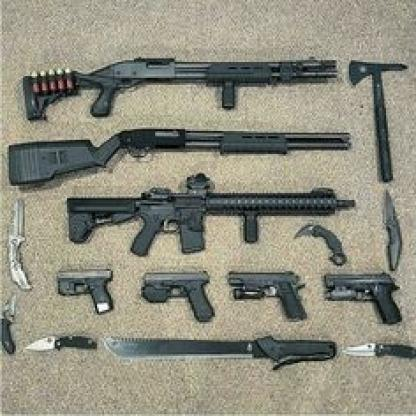Gun: (66, 171, 358, 259), (6, 124, 353, 186), (22, 56, 337, 122)
Knife: (6, 198, 35, 292), (292, 223, 352, 266), (382, 186, 406, 271), (340, 339, 416, 364), (22, 333, 99, 356), (1, 294, 19, 354)
Pistol: (321, 270, 404, 327), (227, 268, 309, 324), (141, 269, 216, 324), (55, 267, 116, 316)
